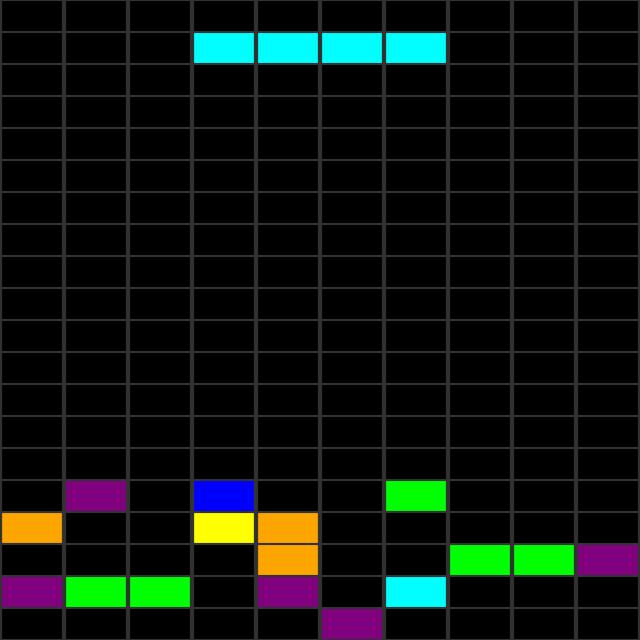Tetrimino_Z: (196, 32, 446, 63)
